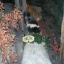skunk: (25, 17, 41, 33)
